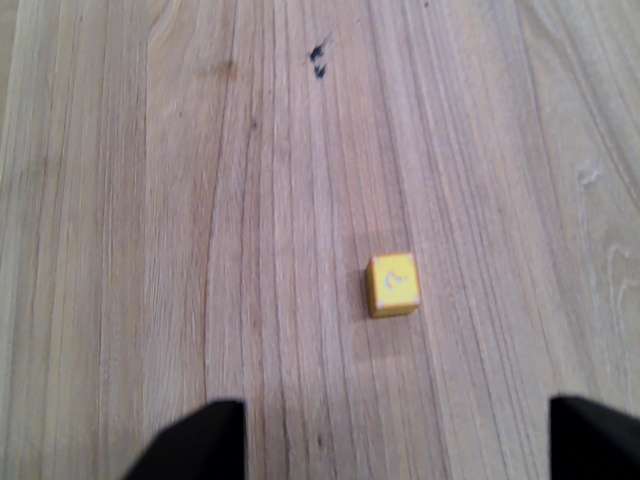lucky: (357, 250, 426, 322)
